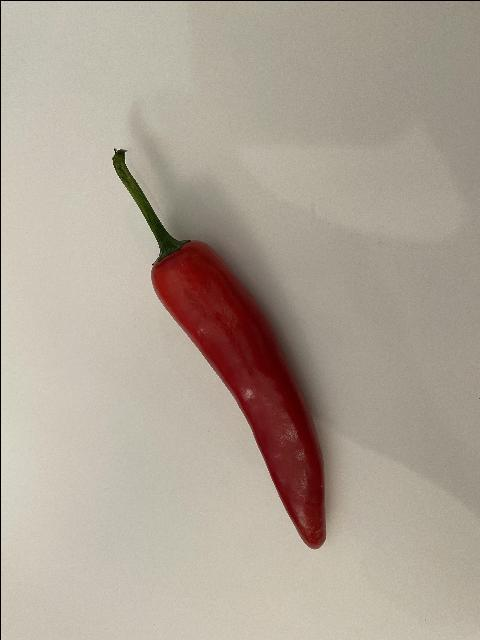chilli: (110, 146, 328, 550)
